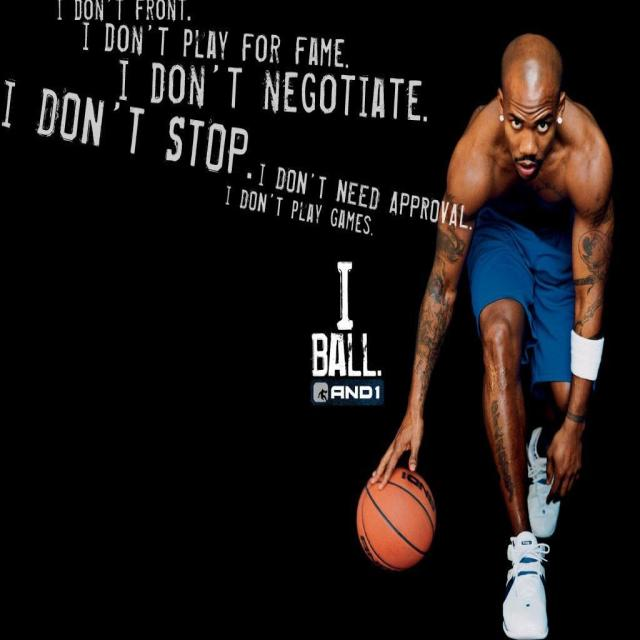Face: (505, 60, 566, 180)
